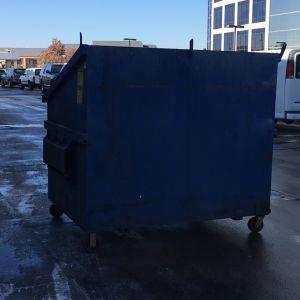Dumpster: (40, 29, 290, 253)
